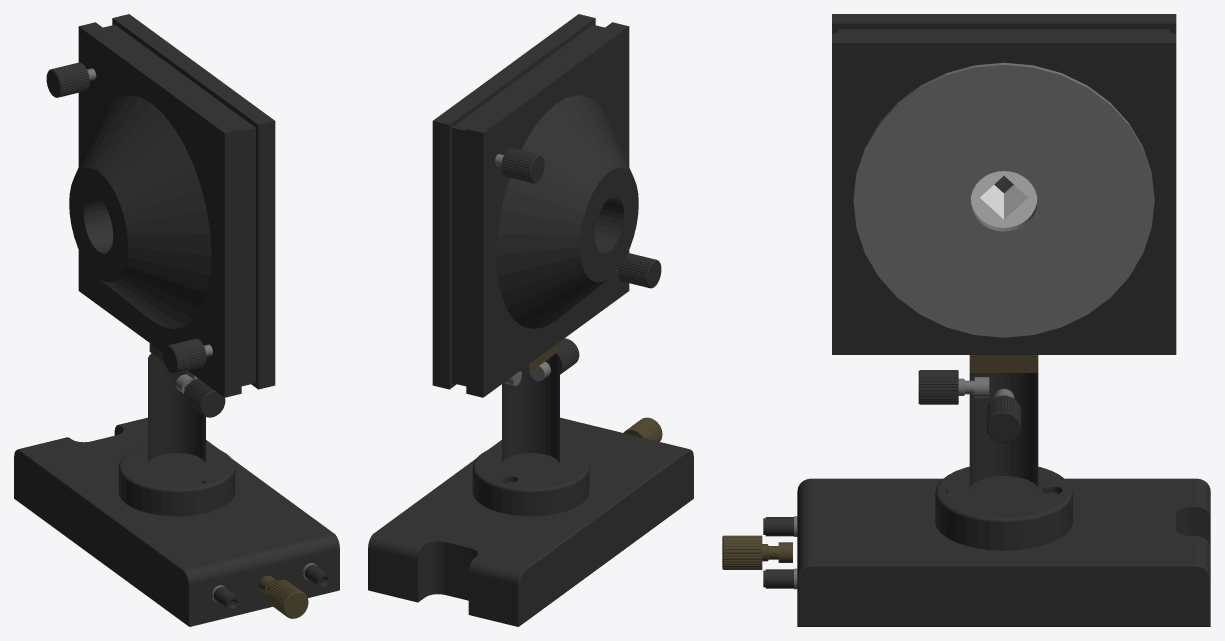
The model's file is 扩束镜.fbx.
3 renders of one model, left to right at view 1: azimuth 30°, elevation 25°; view 2: azimuth 150°, elevation 25°; view 3: azimuth 270°, elevation 25°, orthographic. The views are drawn at different scales.
Parts seen in each view (by area): view 1: 立方体, 滑座, 柱体.001, 支架, 大旋钮座.003, 大旋钮, 大旋钮.001, 小旋扭; view 2: 立方体, 滑座, 柱体.001, 支架, 大旋钮座.003, 大旋钮, 大旋钮.001; view 3: 柱体, 立方体, 滑座, 支架, 立方体.001, 大旋钮.002, 大旋钮.001, 大旋钮, 盘支架, 小旋扭.
Part boxes in pixels (x1,y1,x2,y2): 立方体: (78,14,275,397); 滑座: (14,417,339,626); 柱体.001: (69,95,211,328); 支架: (118,353,235,516); 大旋钮座.003: (46,62,212,373); 大旋钮: (267,580,308,618); 大旋钮.001: (184,378,225,417); 小旋扭: (213,564,330,610); 立方体: (432,14,629,397); 滑座: (368,417,693,626); 柱体.001: (496,95,638,328); 支架: (472,353,589,516); 大旋钮座.003: (495,148,661,288); 大旋钮: (623,417,662,441); 大旋钮.001: (556,338,579,374); 柱体: (853,62,1154,337); 立方体: (832,14,1176,354); 滑座: (797,478,1210,626); 支架: (935,373,1072,550); 立方体.001: (970,171,1037,227); 大旋钮.002: (986,396,1021,442); 大旋钮.001: (918,370,958,404); 大旋钮: (722,535,762,569); 盘支架: (969,355,1038,372); 小旋扭: (763,517,793,588).
Bounding box in the file's own units: 61 × 178 × 142.
